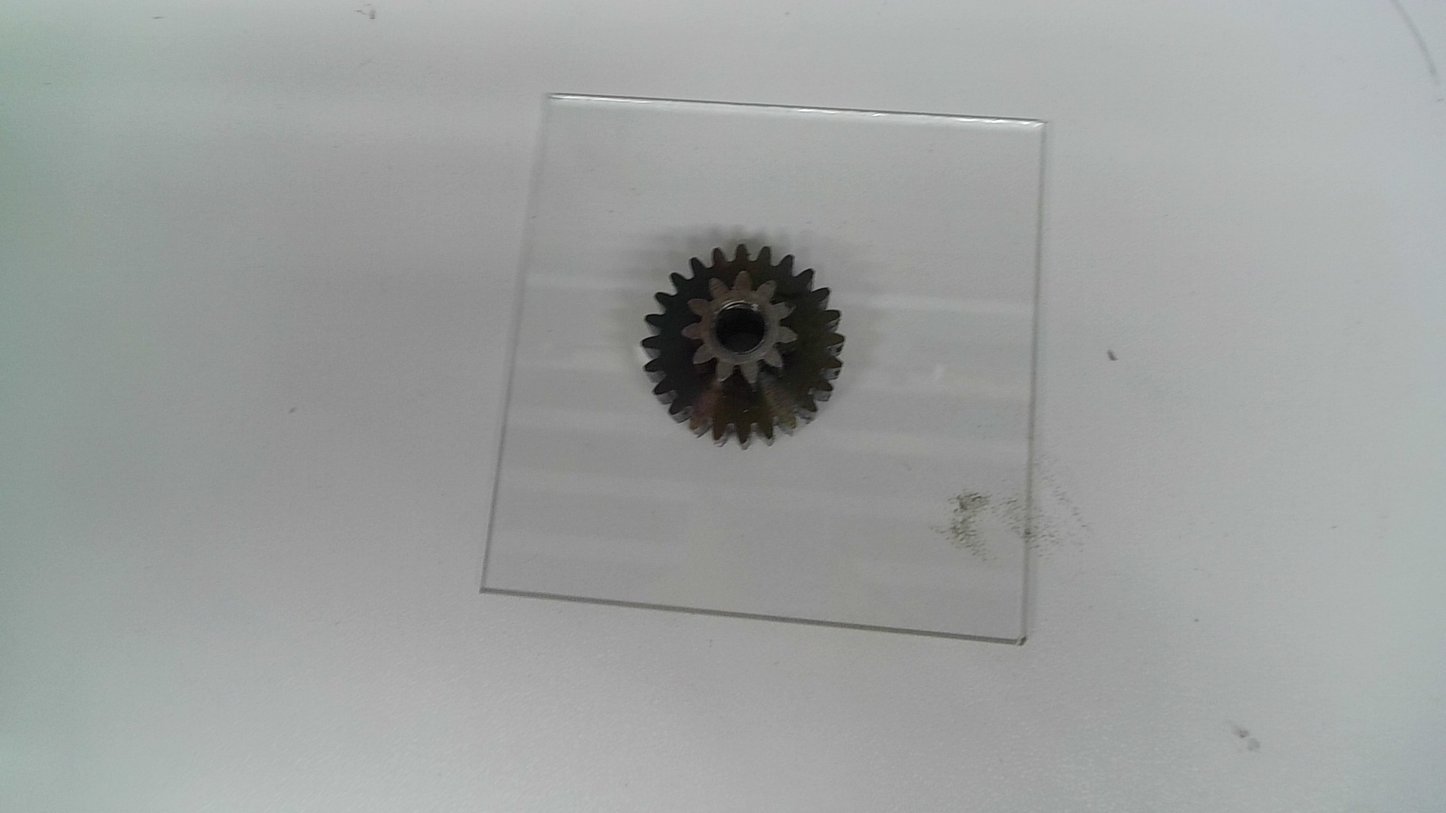gear: (638, 242, 850, 454)
